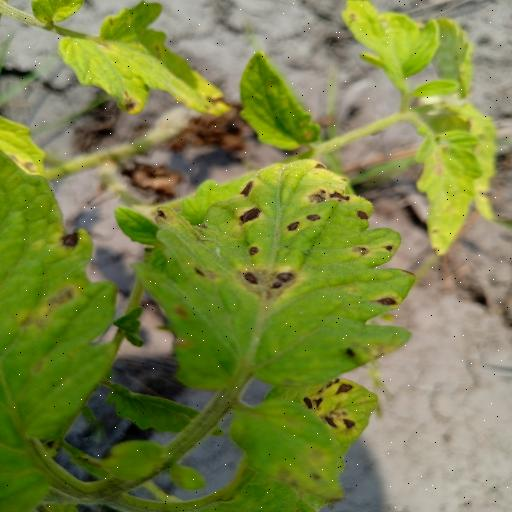Tomato_Brown_Spots: (130, 156, 413, 404), (66, 0, 230, 120), (237, 48, 324, 155), (416, 127, 485, 257), (342, 0, 445, 79)
